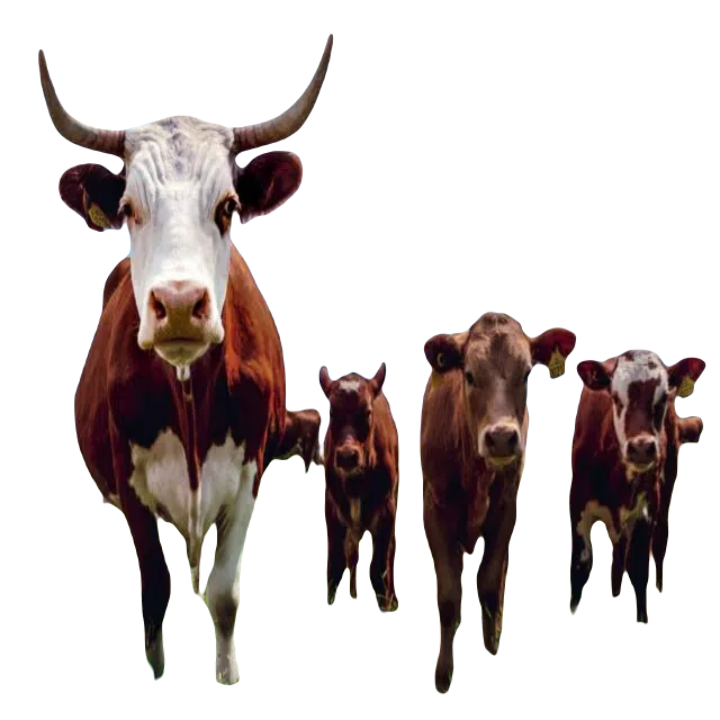Cow: (16, 31, 345, 694), (417, 313, 576, 697)
